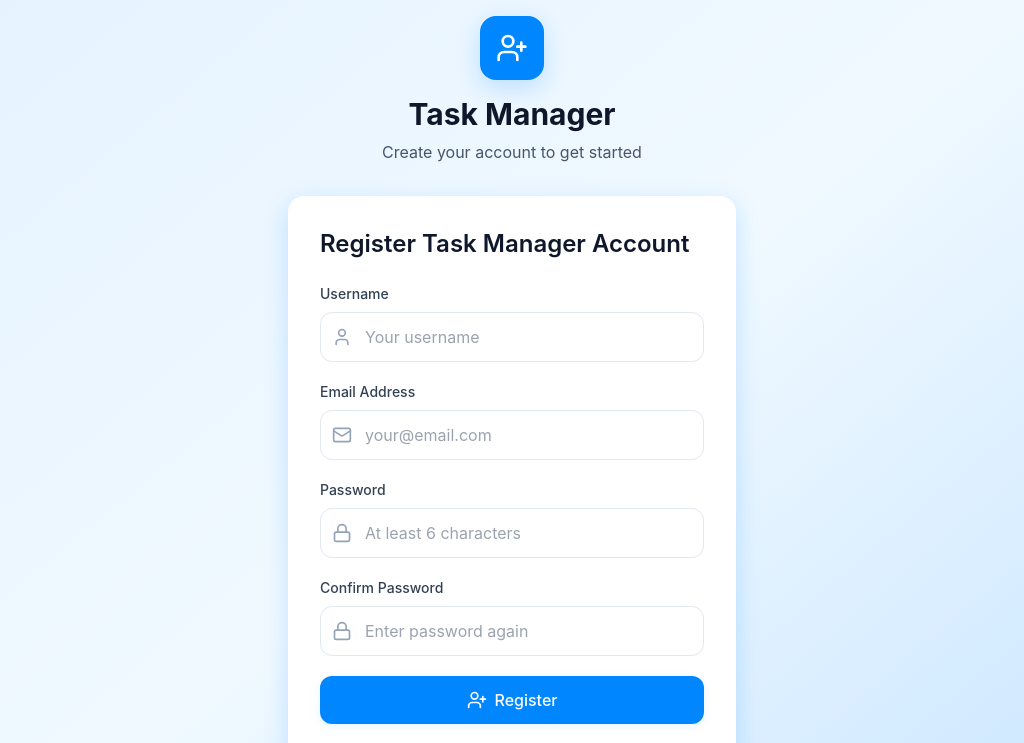
Test: RegisterPage › should show error when submitting empty form
Click the button "Register" at (512, 700), box x1=320 y1=676 x2=704 y2=724
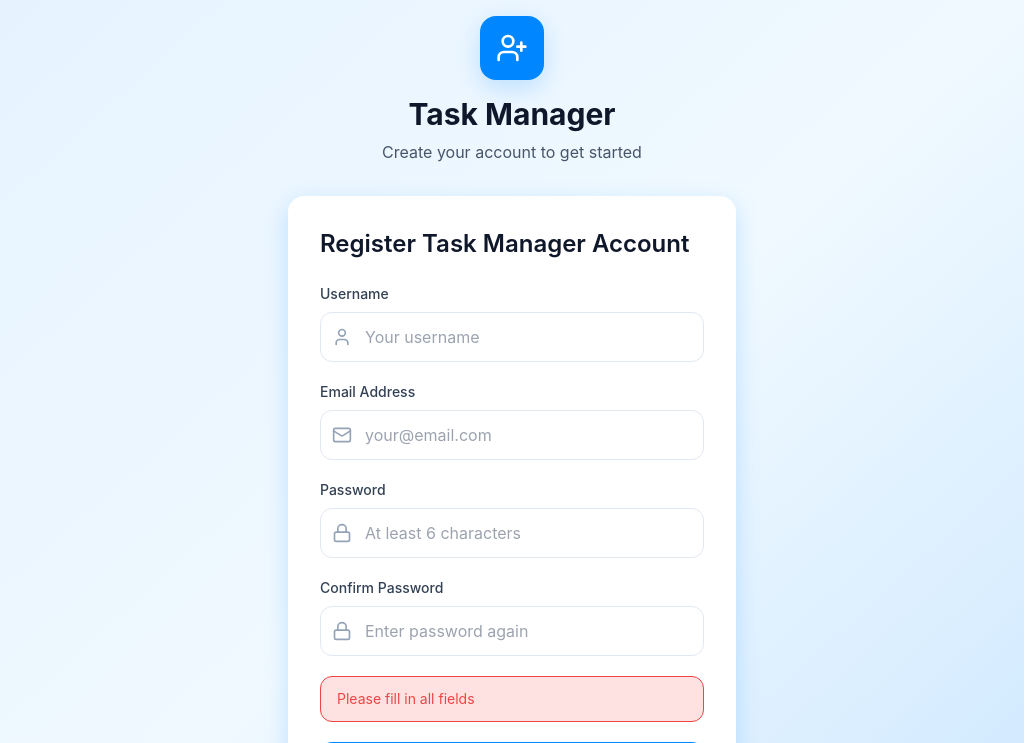
Now the text "Please fill in all fields" is shown, box x1=320 y1=676 x2=704 y2=722
